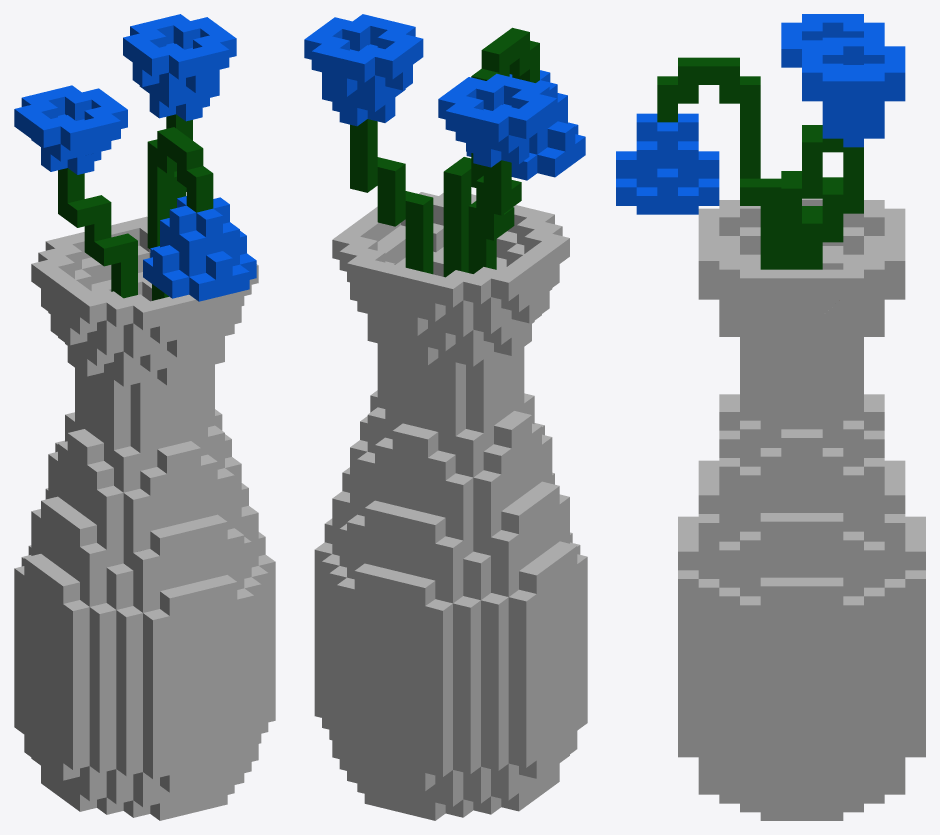
Rendered from Flower Vase Final.fbx.
3 views of the same model, side by side, from view 1: azimuth 30°, elevation 25°; view 2: azimuth 150°, elevation 25°; view 3: azimuth 270°, elevation 25° (orthographic). The views are drawn at different scales.
Parts seen in each view (by area): view 1: FlowerVase; view 2: FlowerVase; view 3: FlowerVase.
Boxes of the visible parts, x1,y1,x2,y2 form: FlowerVase: [14, 14, 275, 820]; FlowerVase: [304, 14, 587, 820]; FlowerVase: [616, 14, 925, 820].
Bounding box in the file's own units: 1.2 × 4 × 1.5.
2 materials, 2 textured.
